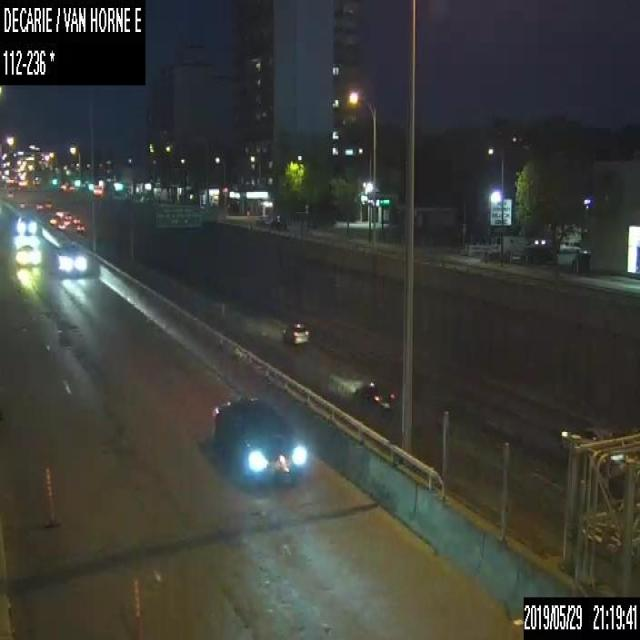construction: (44, 468, 61, 531), (132, 574, 142, 638)
vehicle: (211, 398, 304, 486), (559, 424, 625, 472), (354, 380, 395, 411), (54, 245, 87, 271), (283, 323, 310, 344), (15, 244, 40, 266), (15, 210, 36, 234), (75, 223, 85, 232), (57, 221, 65, 229), (72, 215, 79, 224), (35, 202, 42, 209), (63, 219, 71, 224), (64, 213, 70, 219)
